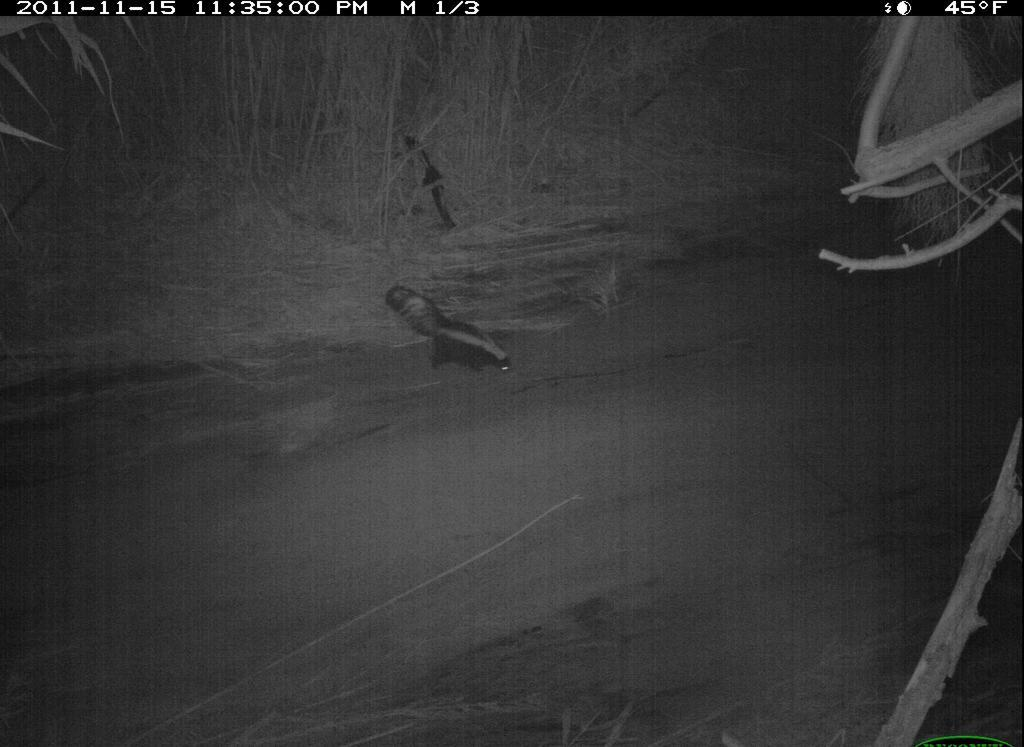skunk: (381, 285, 529, 379)
